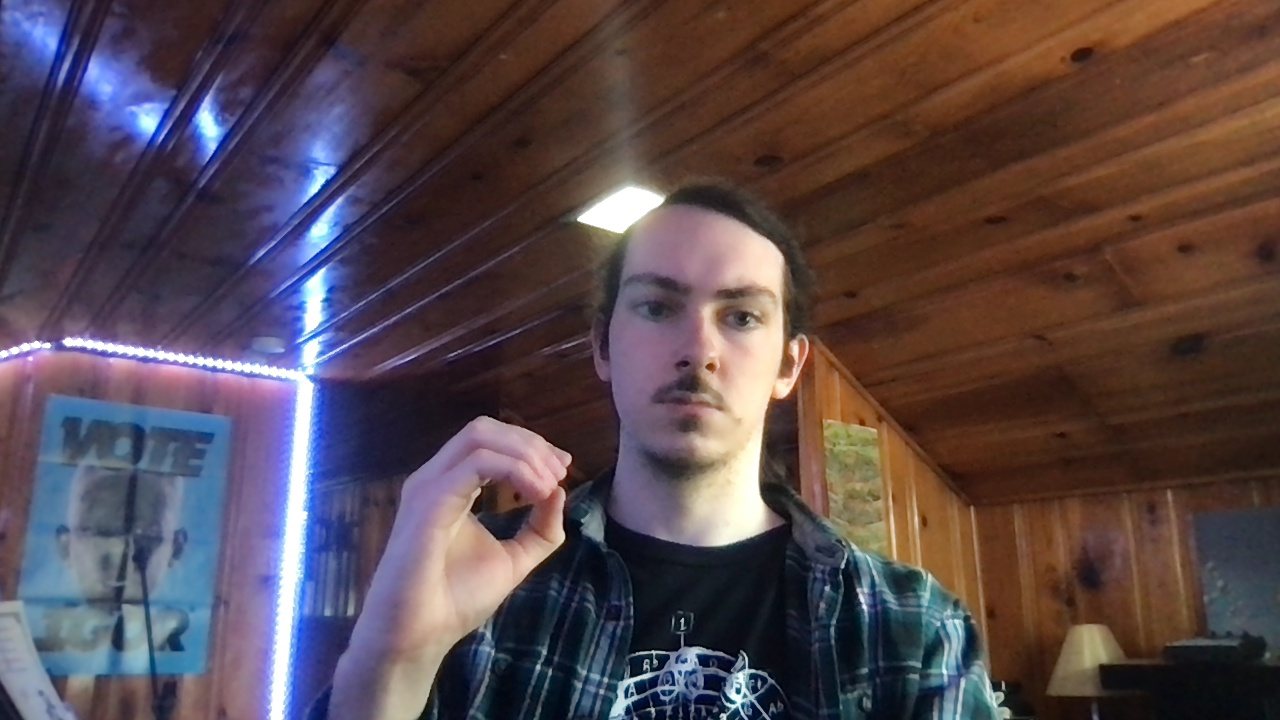c: (356, 412, 577, 644)
